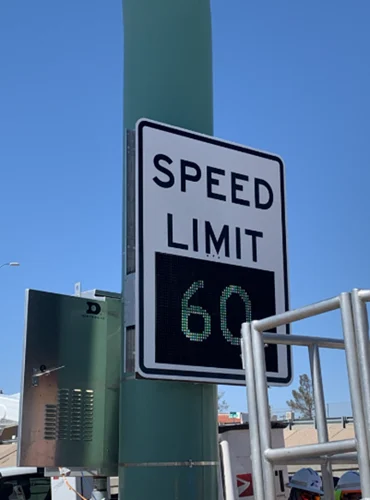60 MPH: (125, 108, 302, 392)
